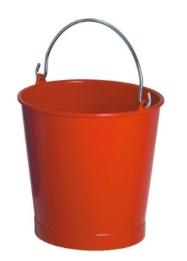SEAU: (7, 5, 187, 261)
